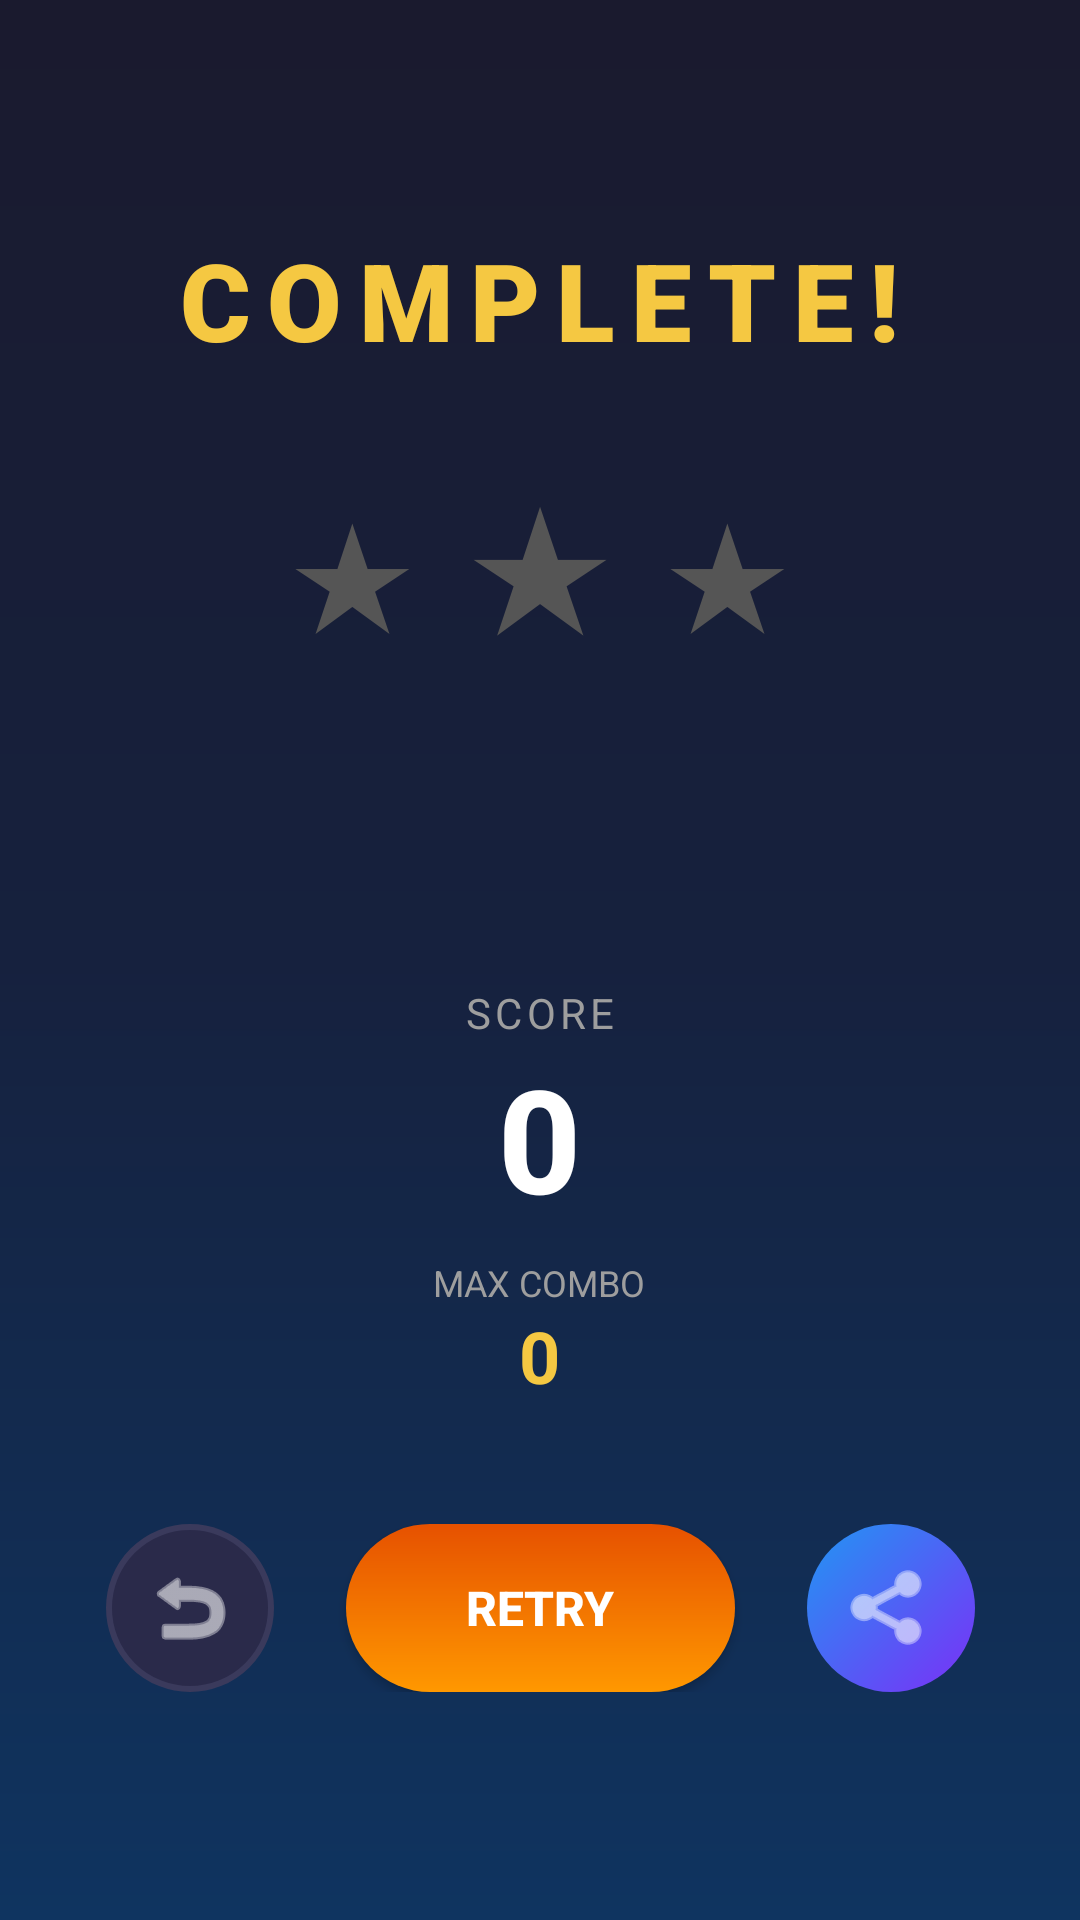

Where icons sit on this 1080w x 1920h app screen, as (x1, y1, x2, y2):
SHARE: (807, 1524, 975, 1692)
